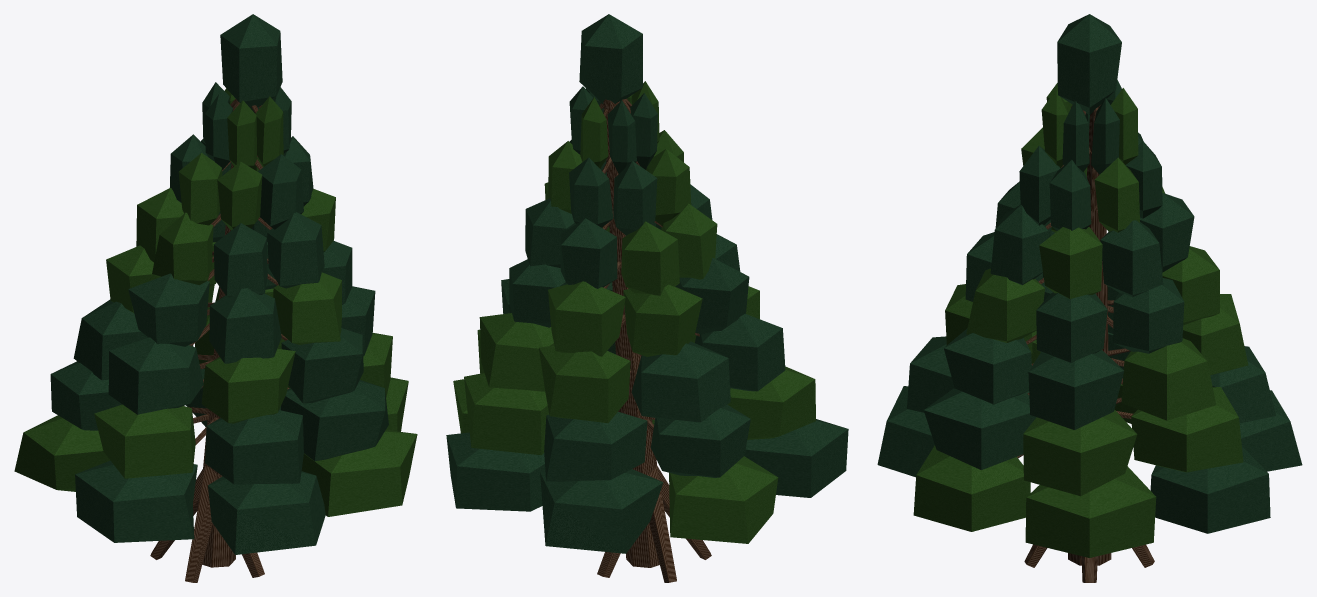
The model's file is conifer_slender_02.fbx.
3 views of the same model, side by side, from view 1: azimuth 30°, elevation 25°; view 2: azimuth 150°, elevation 25°; view 3: azimuth 270°, elevation 25° (orthographic). The views are drawn at different scales.
Parts seen in each view (by area): view 1: conifer_slender_02_LOD0; view 2: conifer_slender_02_LOD0; view 3: conifer_slender_02_LOD0.
Part boxes in pixels (x1,y1,x2,y2): conifer_slender_02_LOD0: (14,14,417,582); conifer_slender_02_LOD0: (446,14,848,582); conifer_slender_02_LOD0: (877,14,1302,582).
Size of what is drawn, in the model's own units: 0.6752 by 1 by 0.6842.
Materials: 1 (1 with a texture image).
